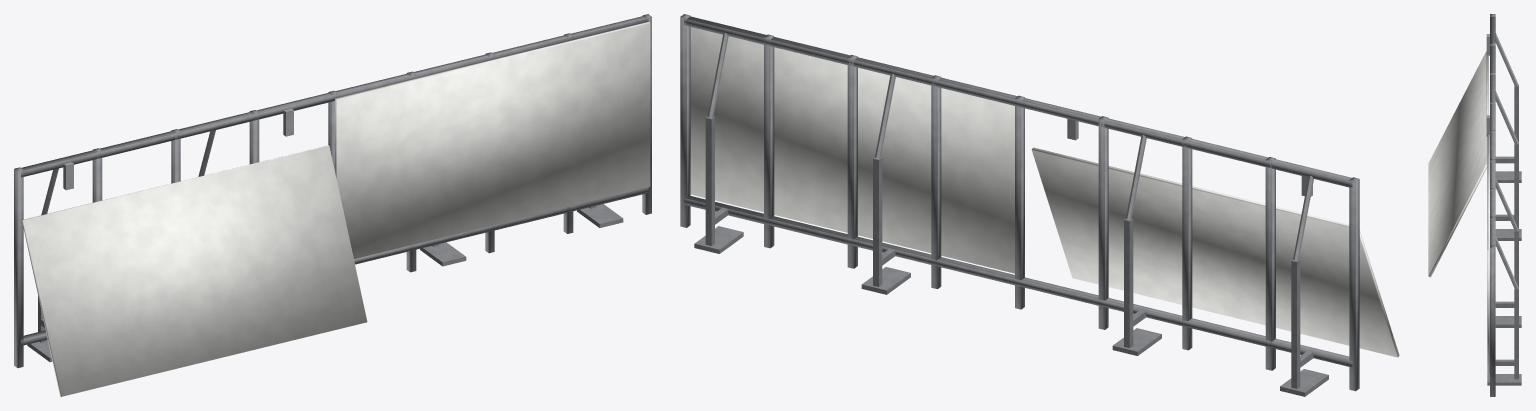
Rendered from Works_SignFrame.fbx.
3 views of the same model, side by side, from view 1: azimuth 30°, elevation 25°; view 2: azimuth 150°, elevation 25°; view 3: azimuth 270°, elevation 25° (orthographic). The views are drawn at different scales.
Visible parts, largest first — view 1: Body; view 2: Body; view 3: Body.
Part boxes in pixels (x1=…): Body: x1=14, y1=14, x2=651, y2=396; Body: x1=680, y1=14, x2=1399, y2=396; Body: x1=1428, y1=14, x2=1521, y2=396.
Bounding box in the file's own units: 8.08 × 2.41 × 1.36.
1 material, 1 textured.
